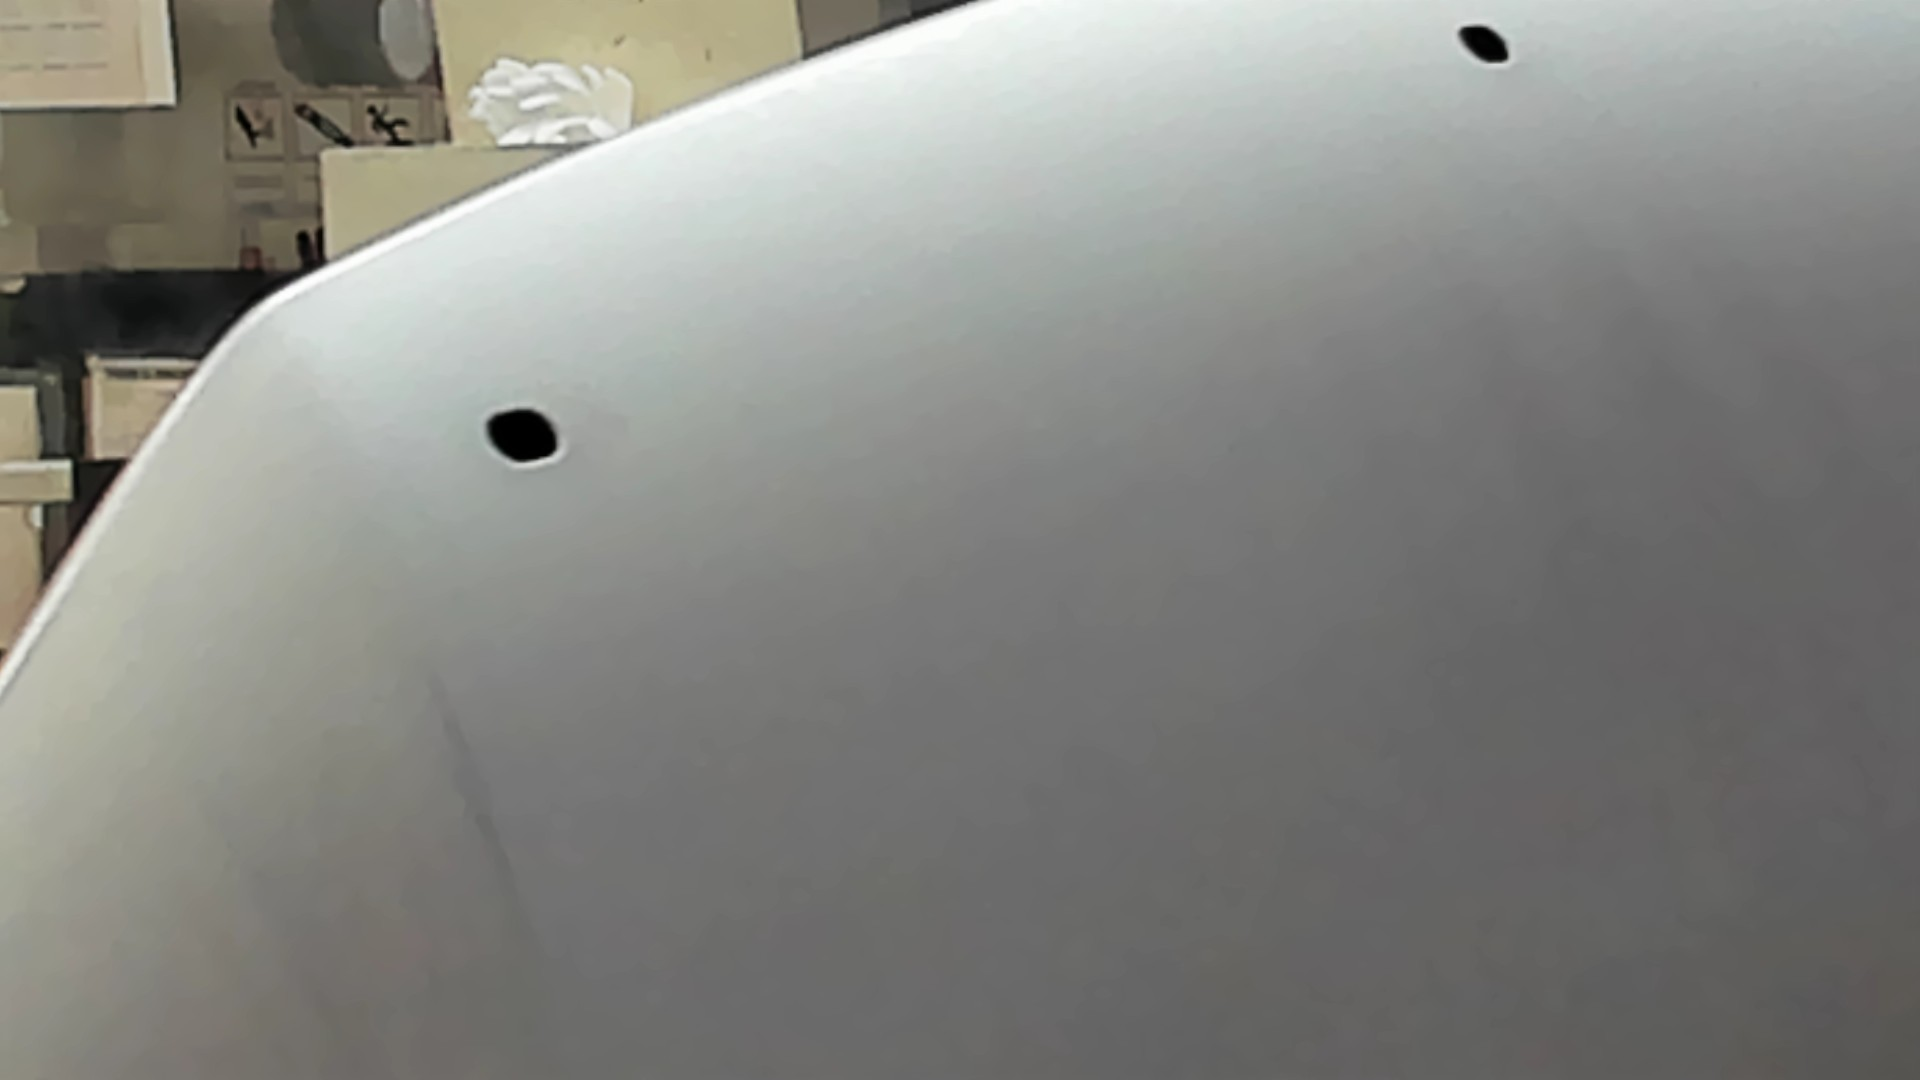Agujero: (477, 401, 567, 471), (1451, 17, 1514, 71)
